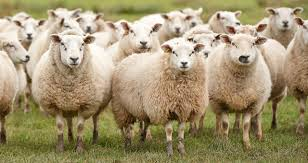koyun: (116, 39, 204, 151), (38, 31, 109, 149), (208, 38, 274, 148), (1, 35, 31, 148), (267, 7, 301, 31)
